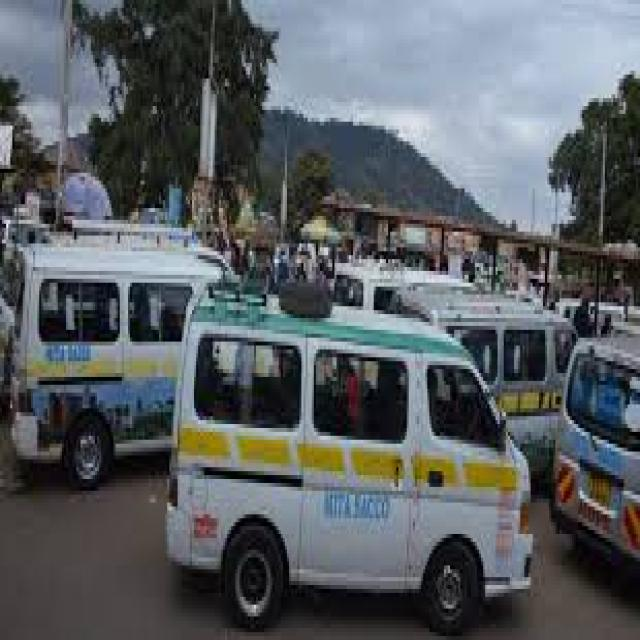matatu: (182, 406, 545, 640), (12, 224, 176, 517), (566, 320, 640, 608), (489, 261, 562, 392), (329, 240, 461, 302)
